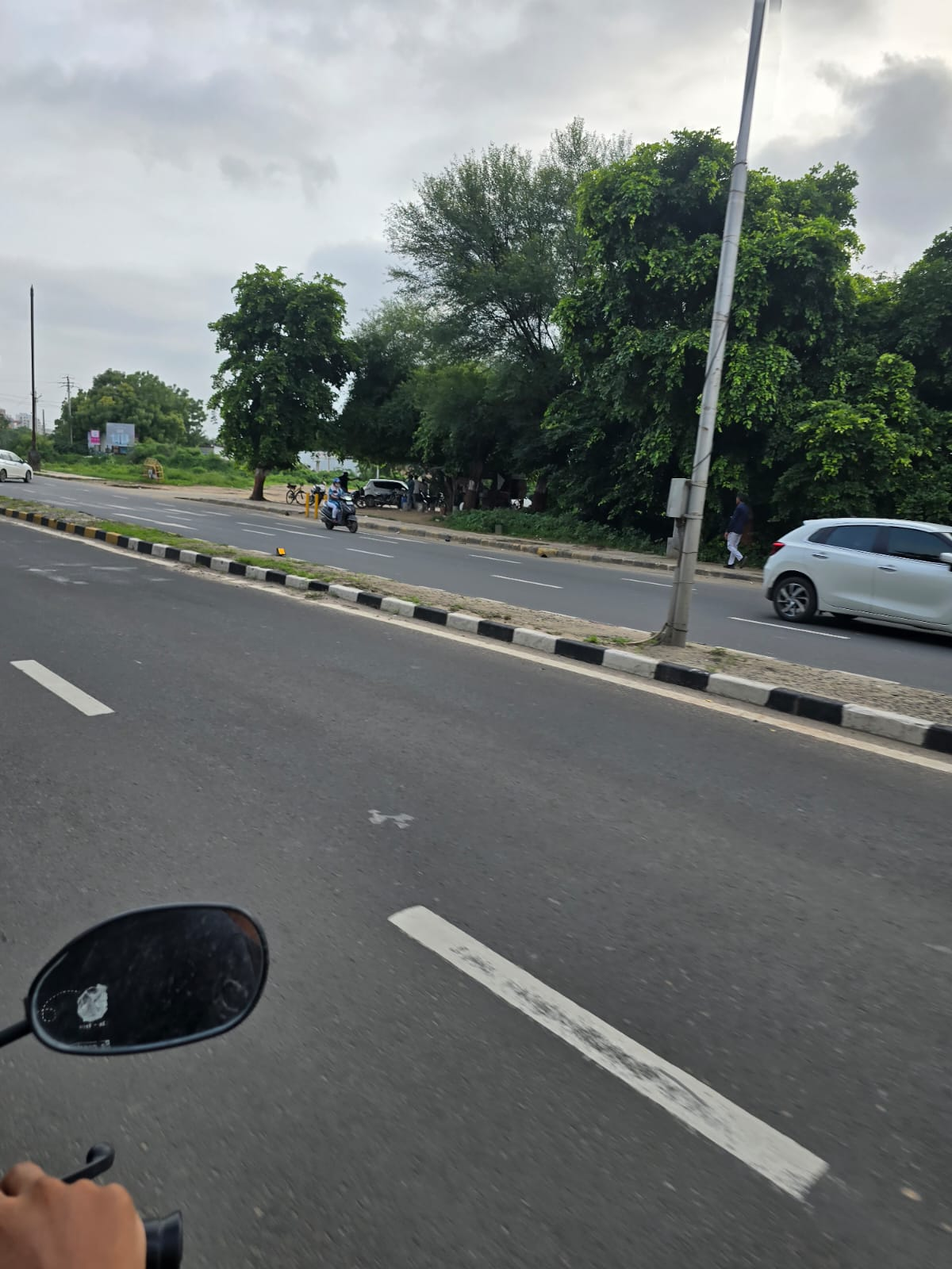BikeWithRider: (316, 476, 359, 533)
Helmet: (330, 477, 342, 489)
